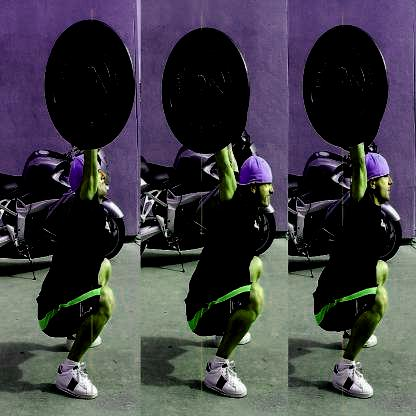Barbell: (82, 65, 96, 85), (191, 72, 204, 93), (333, 67, 346, 85)
